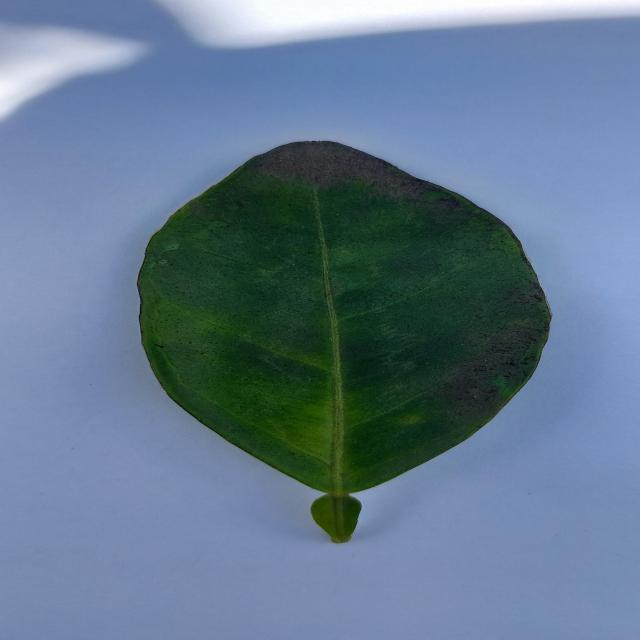greening: (139, 141, 549, 540)
